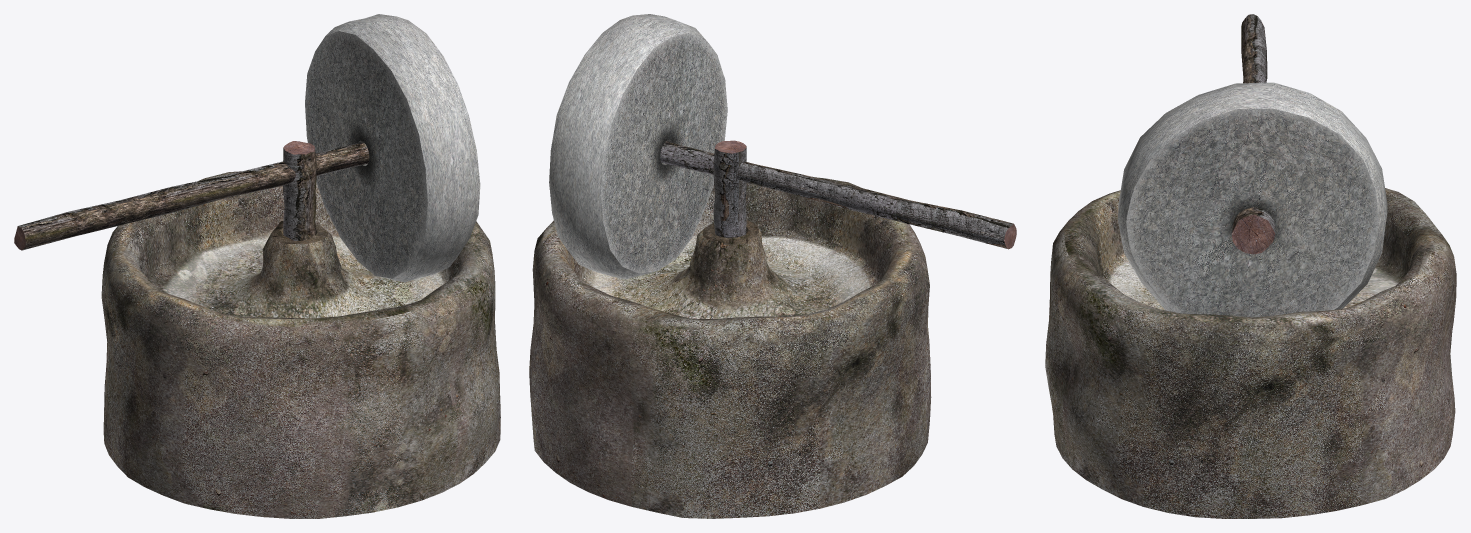
Rendered from oldflourmill.FBX.
3 renders of one model, left to right at view 1: azimuth 30°, elevation 25°; view 2: azimuth 150°, elevation 25°; view 3: azimuth 270°, elevation 25°, orthographic.
Parts seen in each view (by area): view 1: Cylinder001, Cylinder002, Cylinder003; view 2: Cylinder001, Cylinder002, Cylinder003; view 3: Cylinder001, Cylinder002, Cylinder003.
Boxes of the visible parts, x1,y1,x2,y2 form: Cylinder001: [101, 171, 500, 518]; Cylinder002: [305, 14, 480, 282]; Cylinder003: [14, 141, 369, 250]; Cylinder001: [529, 177, 931, 518]; Cylinder002: [549, 14, 727, 279]; Cylinder003: [660, 140, 1016, 249]; Cylinder001: [1045, 188, 1456, 518]; Cylinder002: [1117, 82, 1387, 317]; Cylinder003: [1231, 14, 1275, 254].
Bounding box in the file's own units: 26.61 × 21.51 × 20.48.
